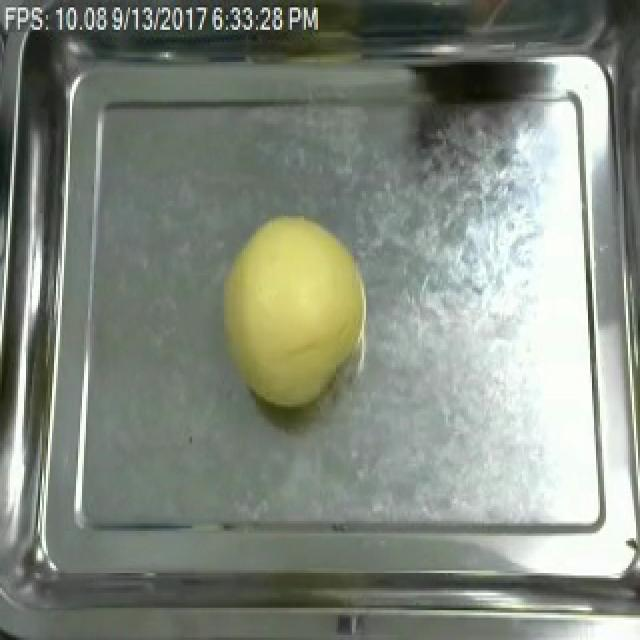Fruit: (214, 206, 376, 414)
